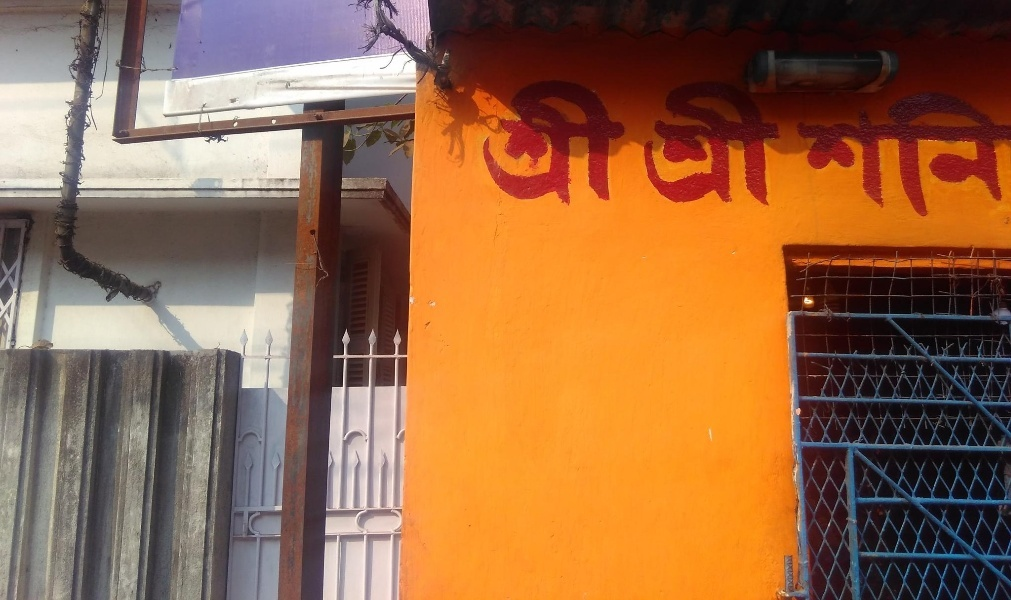text: (497, 78, 512, 212), (513, 78, 528, 212), (529, 78, 544, 212), (545, 78, 560, 212), (561, 78, 576, 212), (577, 78, 592, 212), (593, 78, 608, 212), (609, 78, 624, 212), (657, 80, 672, 212), (673, 80, 688, 212), (689, 80, 704, 212), (705, 80, 720, 212), (721, 80, 736, 212), (737, 80, 752, 212), (753, 80, 768, 212), (801, 88, 816, 219), (817, 88, 832, 219), (833, 88, 848, 219), (849, 88, 864, 219), (865, 88, 880, 219), (881, 88, 896, 219), (897, 88, 912, 219), (913, 88, 928, 219), (929, 88, 944, 219), (945, 88, 960, 219), (961, 88, 976, 219), (977, 88, 992, 219), (993, 88, 1008, 219), (642, 80, 656, 212), (769, 80, 783, 212), (488, 78, 496, 212), (625, 78, 632, 212), (793, 88, 800, 219), (1009, 88, 1011, 219)
